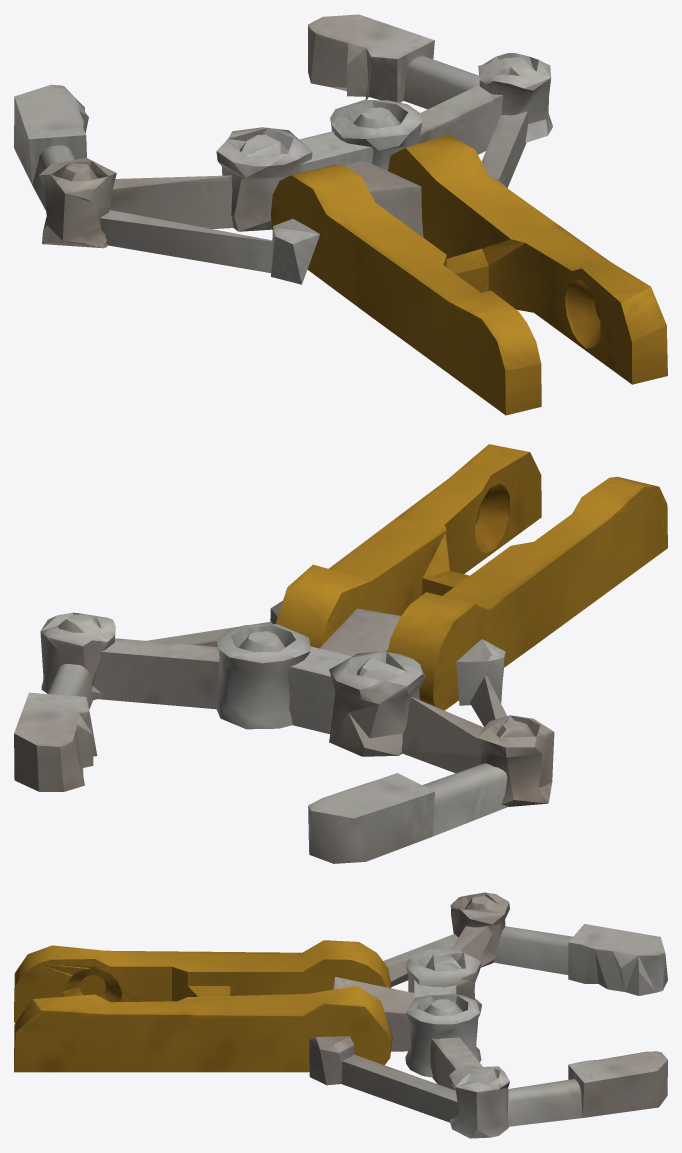
The model's file is inserter-arm-bulk-hand-closed.glb.
3 renders of one model, top to bottom at view 1: azimuth 30°, elevation 25°; view 2: azimuth 150°, elevation 25°; view 3: azimuth 270°, elevation 25°, orthographic. The views are drawn at different scales.
Parts seen in each view (by area): view 1: body; view 2: body; view 3: body.
Boxes of the visible parts, box(x1,y1,x2,y2) form: body: box(14, 14, 667, 415); body: box(14, 444, 667, 863); body: box(14, 892, 667, 1138).
Bounding box in the file's own units: 0.6839 × 0.1105 × 0.9558.
2 materials, 2 textured.
